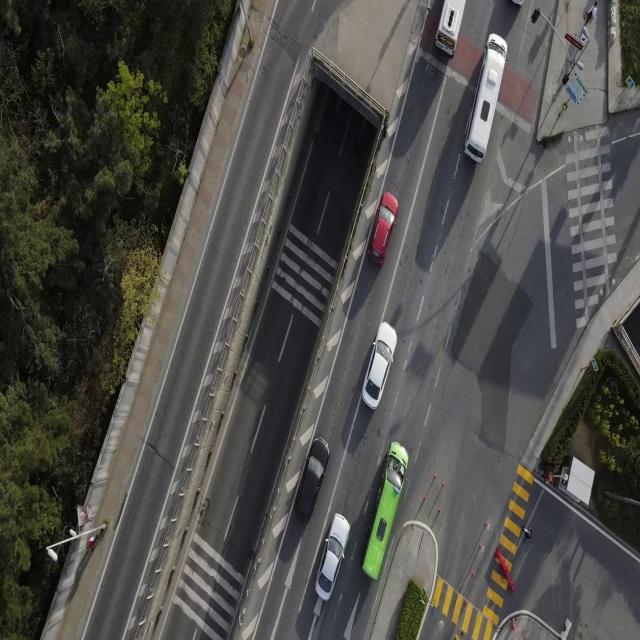p3rson: (584, 0, 598, 28), (87, 533, 99, 551), (523, 524, 532, 544)
